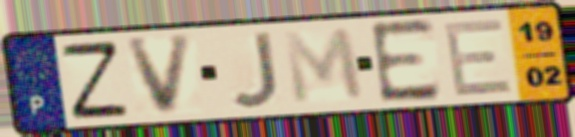E: (365, 16, 445, 108), (439, 16, 516, 99)
J: (227, 29, 282, 111)
M: (279, 25, 369, 107)
V: (123, 32, 197, 119)
Z: (57, 38, 133, 122)
